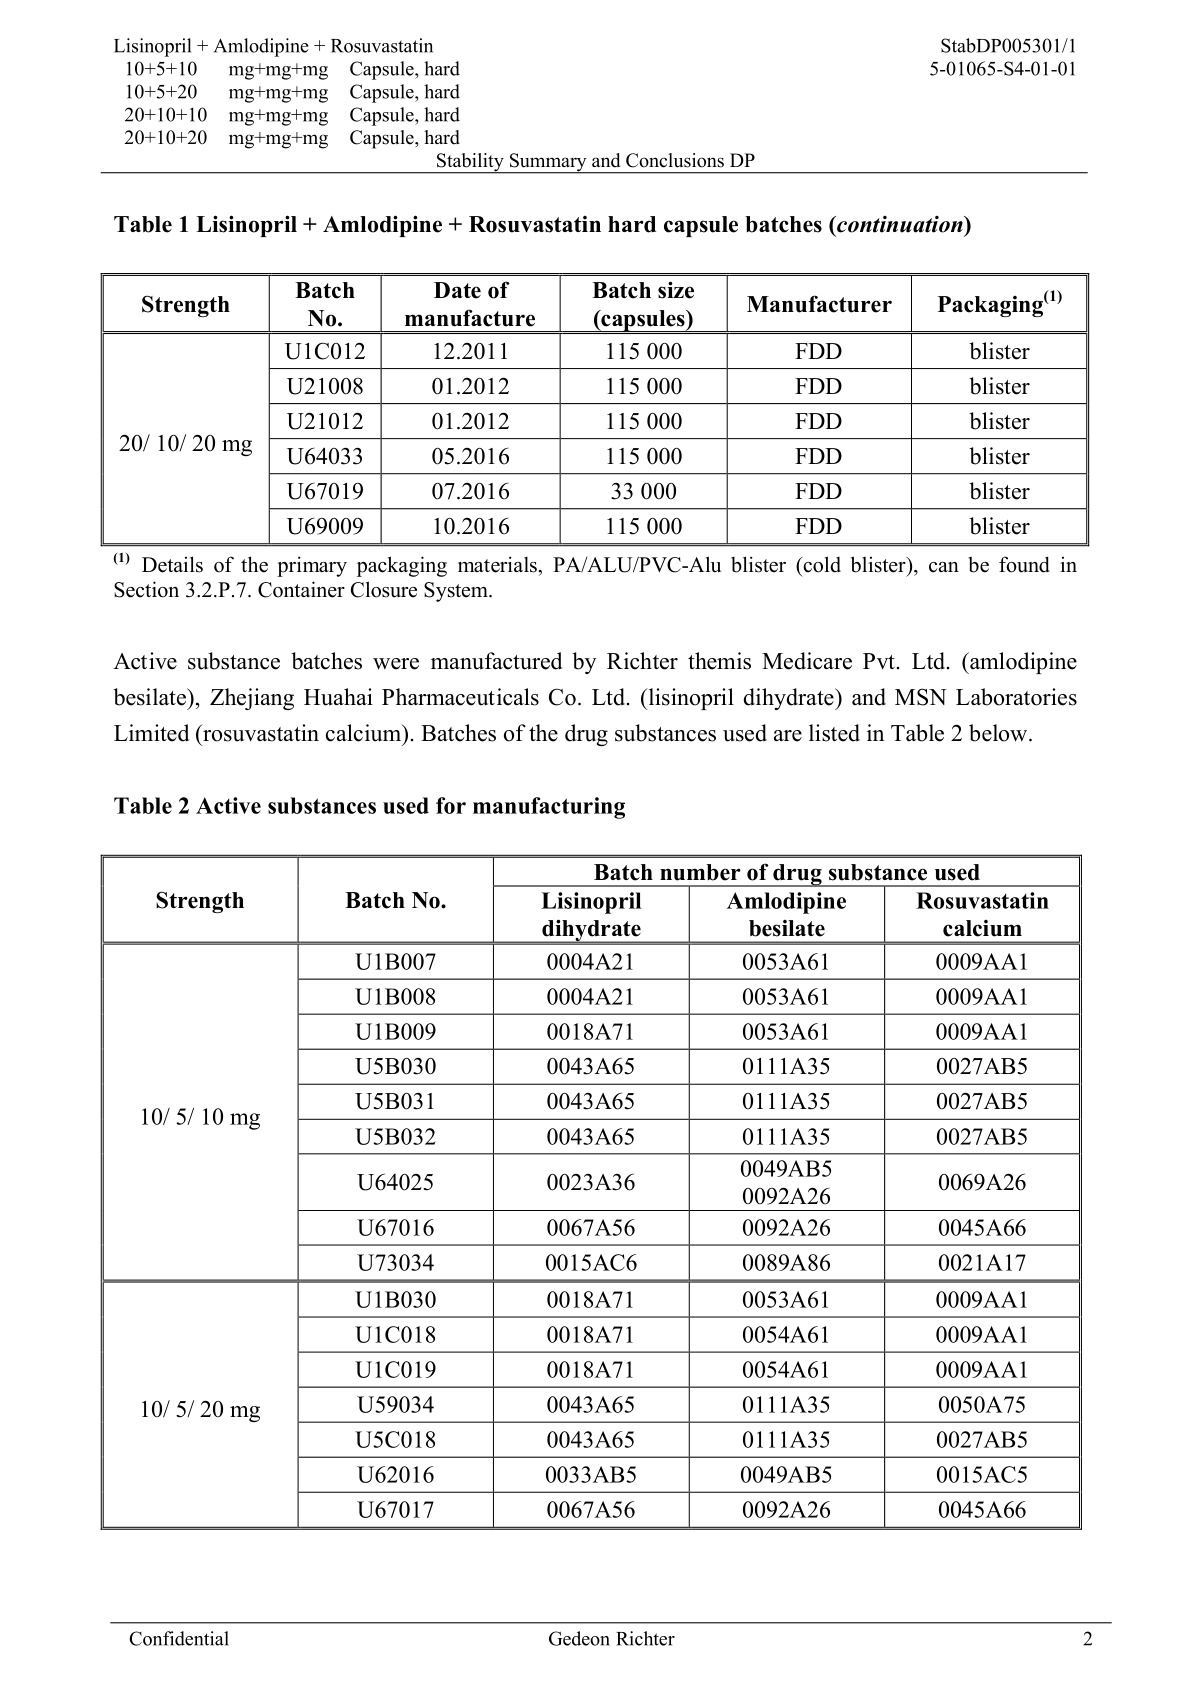merged_cells: (99, 854, 1081, 1529), (99, 271, 1090, 546)
nolines: (112, 33, 461, 149)
